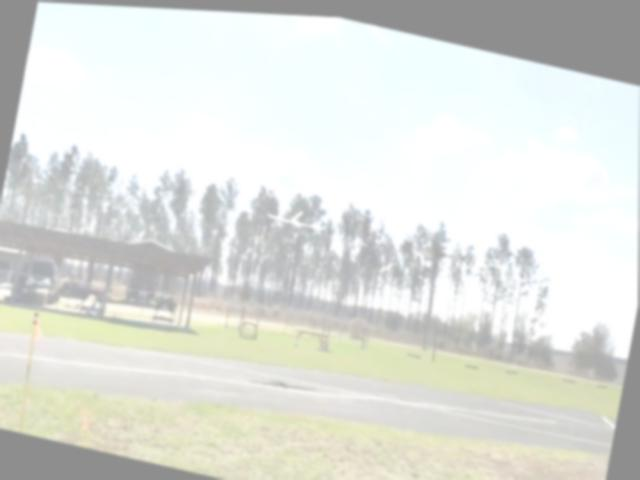plane: (266, 200, 328, 234)
